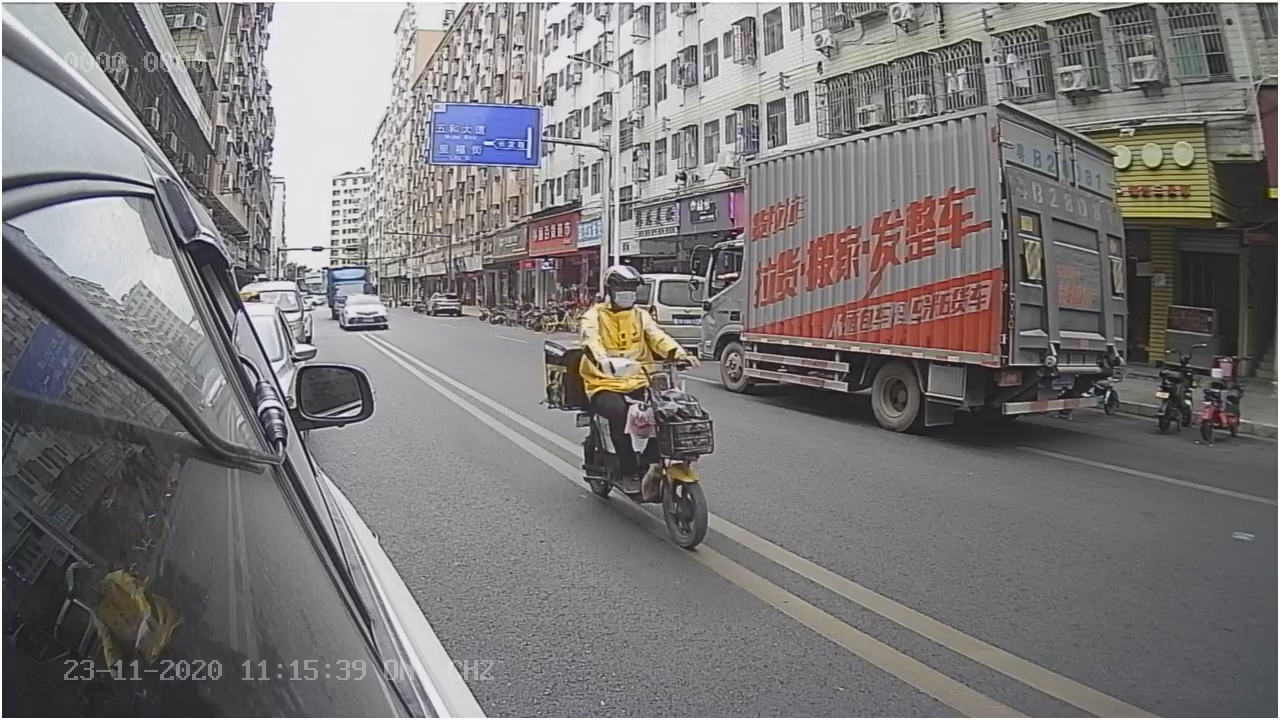person: (573, 259, 709, 380)
